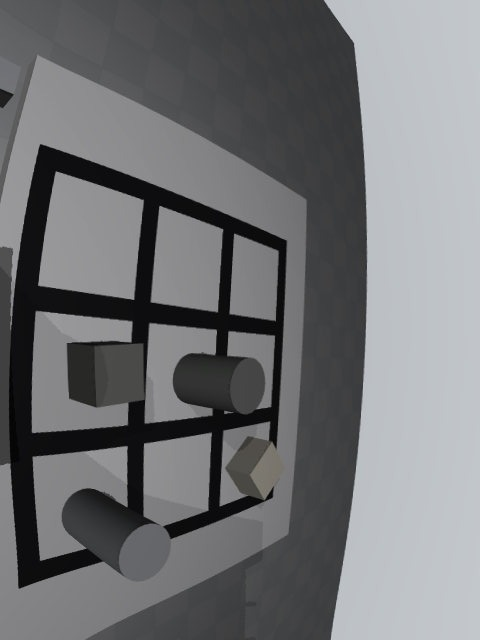can: (61, 488, 171, 582)
cube: (67, 341, 145, 408)
cylinder: (173, 353, 265, 415)
foam: (225, 436, 285, 501)
